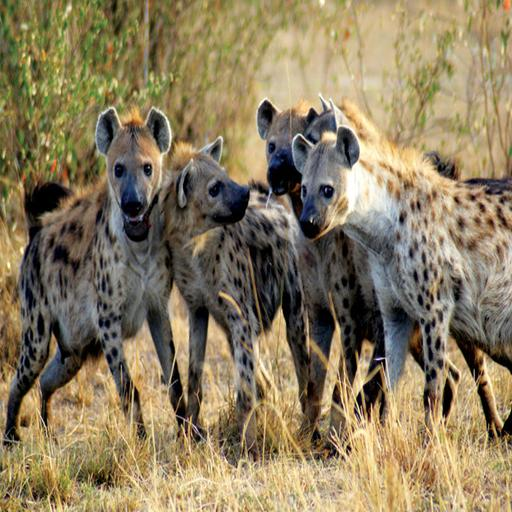Hyena: (249, 96, 486, 448), (289, 127, 512, 485), (0, 107, 209, 467), (170, 137, 368, 470)
